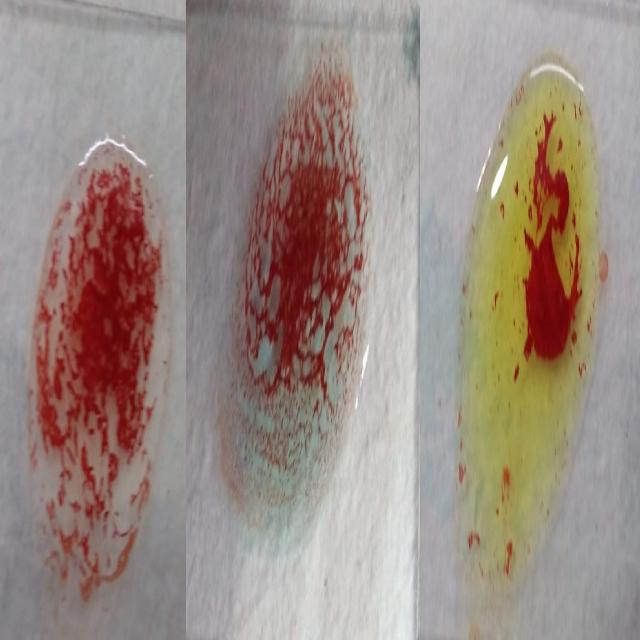A: (220, 41, 365, 533)
B: (454, 57, 598, 590)
D: (27, 127, 165, 611)
